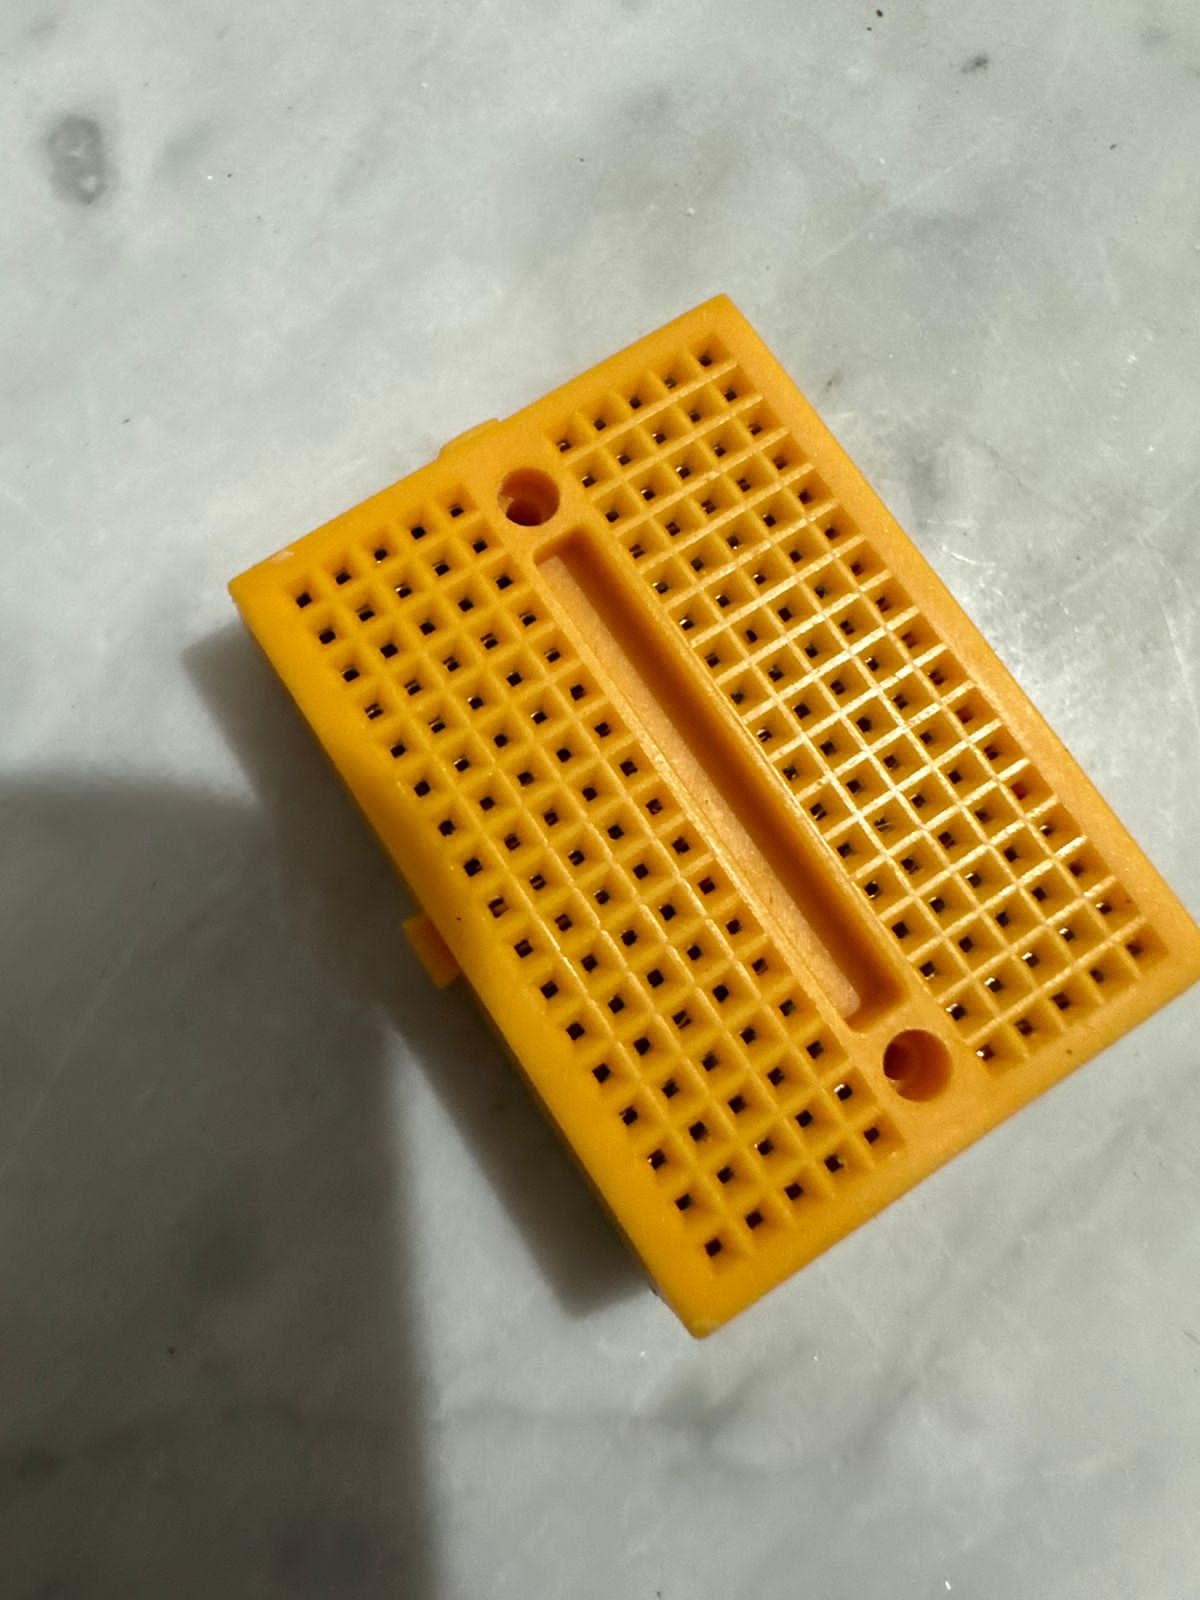breadboard: (221, 278, 1200, 1351)
